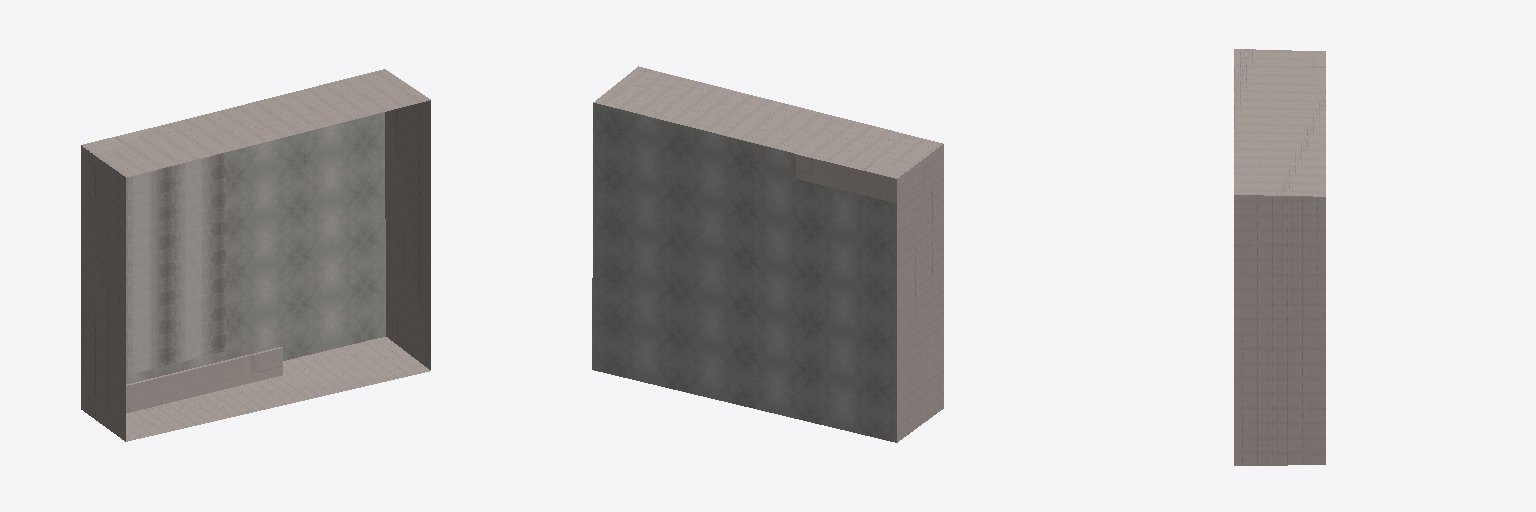
3 renders of one model, left to right at view 1: azimuth 30°, elevation 25°; view 2: azimuth 150°, elevation 25°; view 3: azimuth 270°, elevation 25°, orthographic.
Visible parts, largest first — view 1: Plane; view 2: Plane; view 3: Plane.
Part boxes in pixels (x1,y1,x2,y2): Plane: (81, 69, 430, 441); Plane: (592, 66, 943, 442); Plane: (1234, 49, 1325, 465).
Bounding box in the file's own units: 10.25 × 8.67 × 2.69.
4 materials, 3 textured.